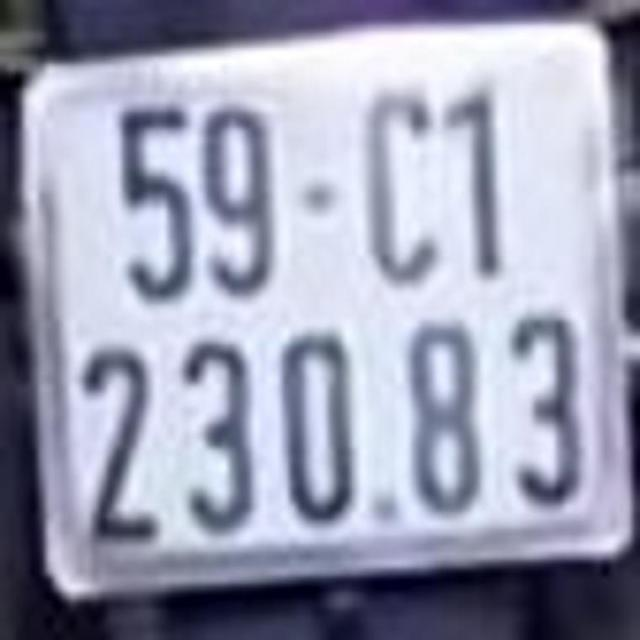0: (277, 328, 353, 524)
1: (442, 74, 514, 288)
2: (76, 342, 160, 542)
3: (505, 304, 586, 511), (181, 333, 259, 532)
5: (114, 96, 198, 300)
8: (398, 312, 486, 511)
9: (201, 103, 282, 296)
C: (358, 80, 439, 292)
